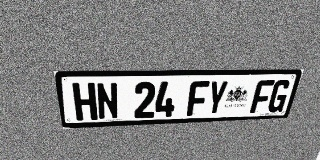2: (135, 82, 156, 118)
4: (155, 81, 176, 117)
F: (249, 80, 275, 113), (186, 81, 210, 116)
G: (266, 79, 292, 112)
H: (72, 83, 98, 121)
N: (96, 82, 119, 120)
Y: (205, 80, 229, 115)
